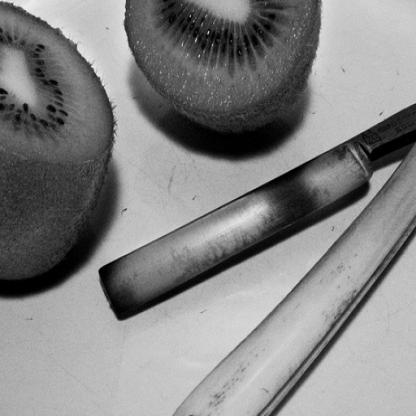knife: (98, 50, 415, 415)
